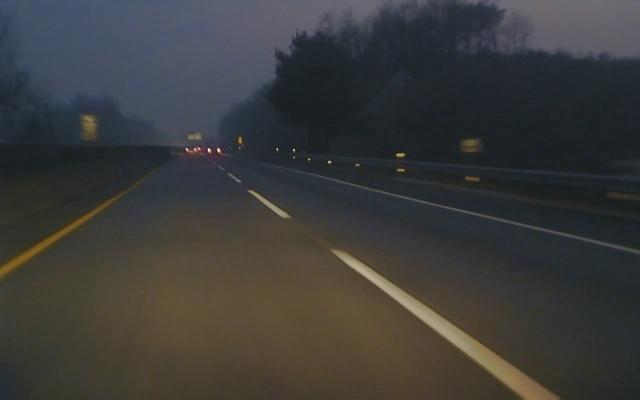lane: (228, 172, 563, 399), (305, 172, 640, 255), (1, 184, 135, 279)
